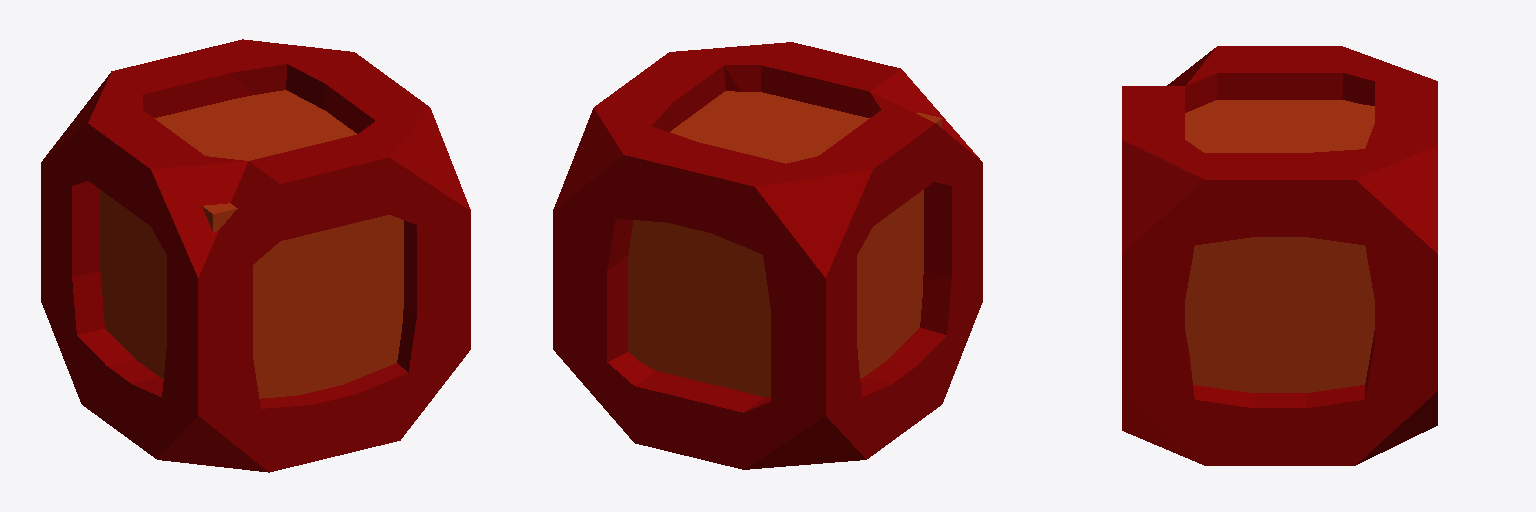
The model's file is toyCube.obj.
The picture shows the model from 3 angles: view 1: azimuth 30°, elevation 25°; view 2: azimuth 150°, elevation 25°; view 3: azimuth 270°, elevation 25°; orthographic projection.
Visible parts, largest first — view 1: Cube, Cube.001; view 2: Cube, Cube.001; view 3: Cube, Cube.001.
Part boxes in pixels (x1,y1,x2,y2): Cube: (41, 39, 470, 472); Cube.001: (100, 90, 403, 398); Cube: (553, 42, 982, 469); Cube.001: (628, 91, 941, 396); Cube: (1122, 46, 1437, 465); Cube.001: (1185, 100, 1374, 392).
Bounding box in the file's own units: 2.5 × 2.5 × 2.5.